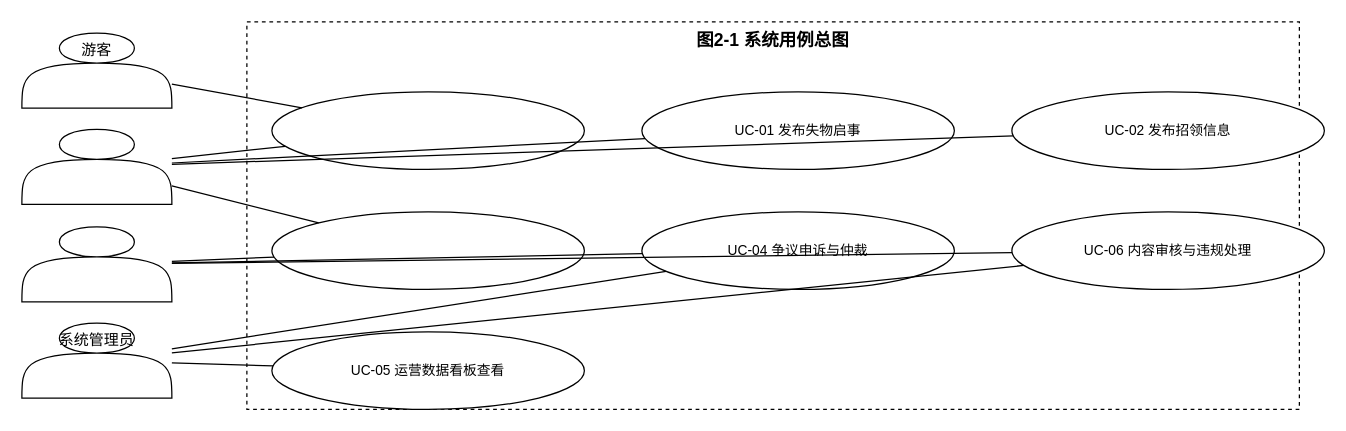
Image size: 1346x431. Some labels were removed from this diagram. Here are the shapes that lost their labels. From the top down, the centre of each, then its label:
At pixel 427 130: "UC-07 注册登录与信用分管理".
At pixel 96 166: "注册用户".
At pixel 96 264: "认领审核员".
At pixel 427 250: "UC-03 认领核验与核销".
